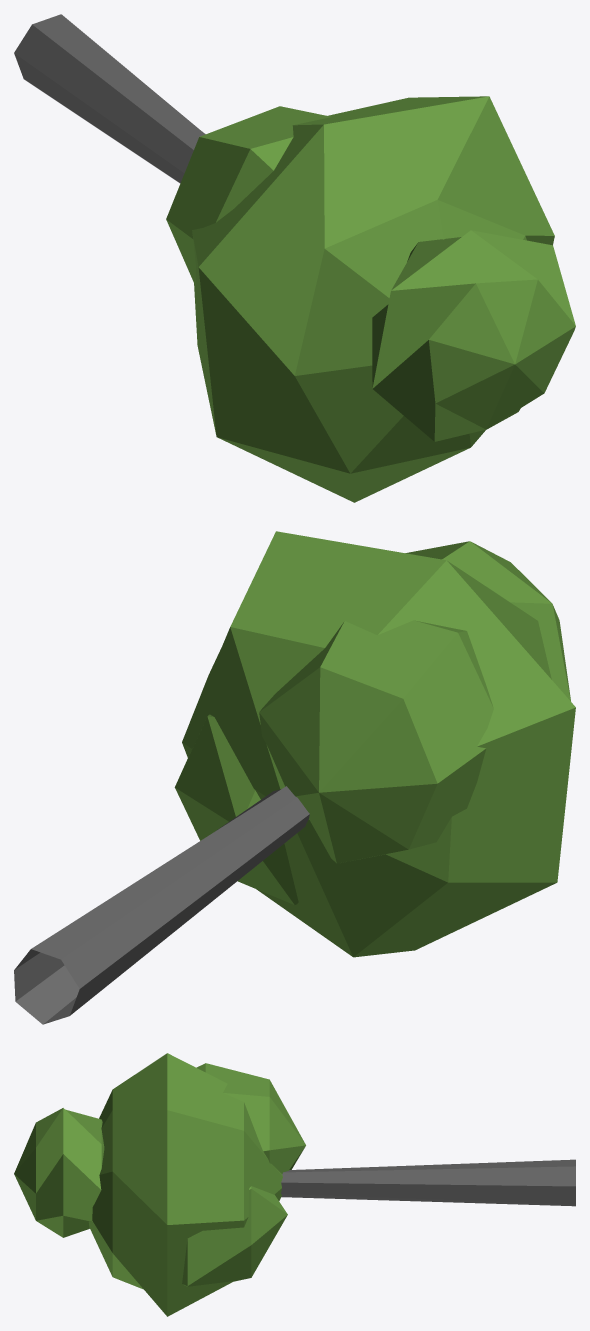
File: growth_0.glb
3 renders of one model, top to bottom at view 1: azimuth 30°, elevation 25°; view 2: azimuth 150°, elevation 25°; view 3: azimuth 270°, elevation 25°, orthographic. The views are drawn at different scales.
Parts seen in each view (by area): view 1: tree_04_growth_0; view 2: tree_04_growth_0; view 3: tree_04_growth_0.
Boxes of the visible parts, <box> form: tree_04_growth_0: <box>14,14,575,502</box>; tree_04_growth_0: <box>14,531,575,1024</box>; tree_04_growth_0: <box>14,1053,575,1316</box>.
Size of the model in its own units: 9.2 by 9.51 by 20.47.
